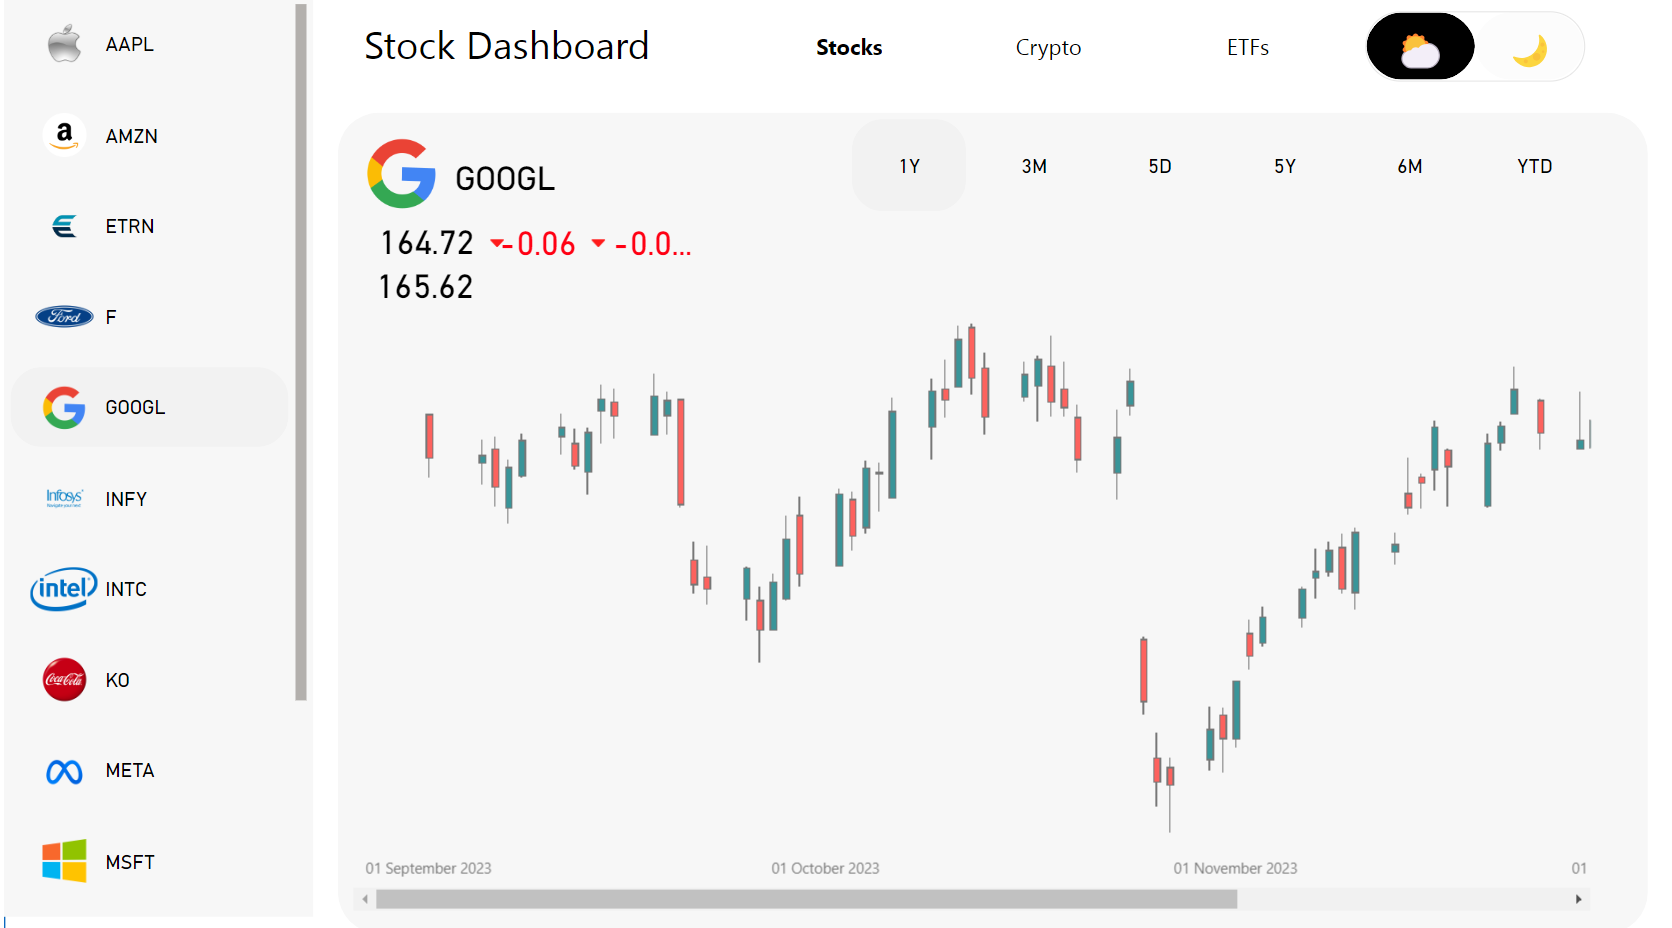

This screenshot's page, from the dashboard's own definition file:
{"tool":"powerbi","page":{"name":"Stocks","canvas":[1280,720],"ordinal":0},"visuals":[{"type":"shape","box":[40,38.2,1215.5,680],"z":0,"group":"g1"},{"type":"group","id":"g1","title":"Market Dashboard","box":[40,37.9,1215.5,680.7],"z":0},{"type":"shape","box":[282.9,121.4,952.9,597.1],"z":1000,"group":"g1"},{"type":"PBI_CV_886A053E_9DFD_4EA0_A47D_CCAEB89AF969","fields":{"Category":["Stocks Data.Date.Variation.Date Hierarchy.Day"],"open":["Min(Stocks Data.Open)"],"close":["Min(Stocks Data.Close)"],"high":["Min(Stocks Data.High)"],"low":["Min(Stocks Data.Low)"]},"box":[282.5,199.3,922,507.5],"z":2000,"group":"g1"},{"type":"shape","box":[40.4,39.1,225,667.7],"z":3000,"group":"g1"},{"type":"advancedSlicerVisual","fields":{"Values":["Stocks Data.Symbol"]},"box":[40.4,37.9,225,668.9],"z":4000,"group":"g1"},{"type":"advancedSlicerVisual","fields":{"Values":["Stocks Data.Date Category"]},"box":[651.4,121.4,552.9,77.1],"z":5000,"group":"g1"},{"type":"advancedSlicerVisual","fields":{"Values":["Color Codes.Icon"]},"box":[1029.6,47.7,160.2,51.4],"z":6000,"group":"g1"},{"type":"cardVisual","fields":{"Data":["Min(Stocks Data.Logo)"]},"box":[282.7,122.1,98.8,91.9],"z":7000,"group":"g1"},{"type":"card","fields":{"Values":["Min(Stocks Data.Symbol)"]},"box":[345.7,143.4,118.9,50.3],"z":8000,"group":"g1"},{"type":"card","fields":{"Values":["Stocks Data.Open_Value"]},"box":[301.7,199.1,90.9,33],"z":10000,"group":"g1"},{"type":"card","fields":{"Values":["Stocks Data.Close_Value"]},"box":[299.5,231.9,94.3,31.4],"z":11000,"group":"g1"},{"type":"card","fields":{"Values":["Stocks Data.Open_Close_Diff"]},"box":[392.5,199.6,71,32.5],"z":12000,"group":"g1"},{"type":"card","fields":{"Values":["Stocks Data.Diff_%"]},"box":[472.5,199.7,77.1,32.9],"z":13000,"group":"g1"},{"type":"cardVisual","fields":{"Data":["Min(Stocks Data.Logo)"]},"box":[382,193.4,33.6,36.6],"z":14000,"group":"g1"},{"type":"cardVisual","fields":{"Data":["Min(Stocks Data.Logo)"]},"box":[455.4,193.2,33.8,36.9],"z":15000,"group":"g1"},{"type":"shape","box":[302,37.9,247,66],"z":16000,"group":"g1"},{"type":"pageNavigator","box":[587,52.6,425.5,41.6],"z":17000,"group":"g1"}]}

Visuals, with their boxes in screenshot pixels (x1, y1, x2, y2), scaled from the page's 1280x720 canvas onto the 1672x928 screenshot:
shape: l=52, t=49, r=1640, b=926
"Market Dashboard" group: l=52, t=49, r=1640, b=926
shape: l=370, t=156, r=1614, b=926
PBI_CV_886A053E_9DFD_4EA0_A47D_CCAEB89AF969 - Stocks Data.Date.Variation.Date Hierarchy.Day x Min(Stocks Data.Open): l=369, t=257, r=1573, b=911
shape: l=53, t=50, r=347, b=911
advancedSlicerVisual - Stocks Data.Symbol: l=53, t=49, r=347, b=911
advancedSlicerVisual - Stocks Data.Date Category: l=851, t=156, r=1573, b=256
advancedSlicerVisual - Color Codes.Icon: l=1345, t=61, r=1554, b=128
cardVisual - Min(Stocks Data.Logo): l=369, t=157, r=498, b=276
card - Min(Stocks Data.Symbol): l=452, t=185, r=607, b=250
card - Stocks Data.Open_Value: l=394, t=257, r=513, b=299
card - Stocks Data.Close_Value: l=391, t=299, r=514, b=339
card - Stocks Data.Open_Close_Diff: l=513, t=257, r=605, b=299
card - Stocks Data.Diff_%: l=617, t=257, r=718, b=300
cardVisual - Min(Stocks Data.Logo): l=499, t=249, r=543, b=296
cardVisual - Min(Stocks Data.Logo): l=595, t=249, r=639, b=297
shape: l=394, t=49, r=717, b=134
pageNavigator: l=767, t=68, r=1323, b=121
